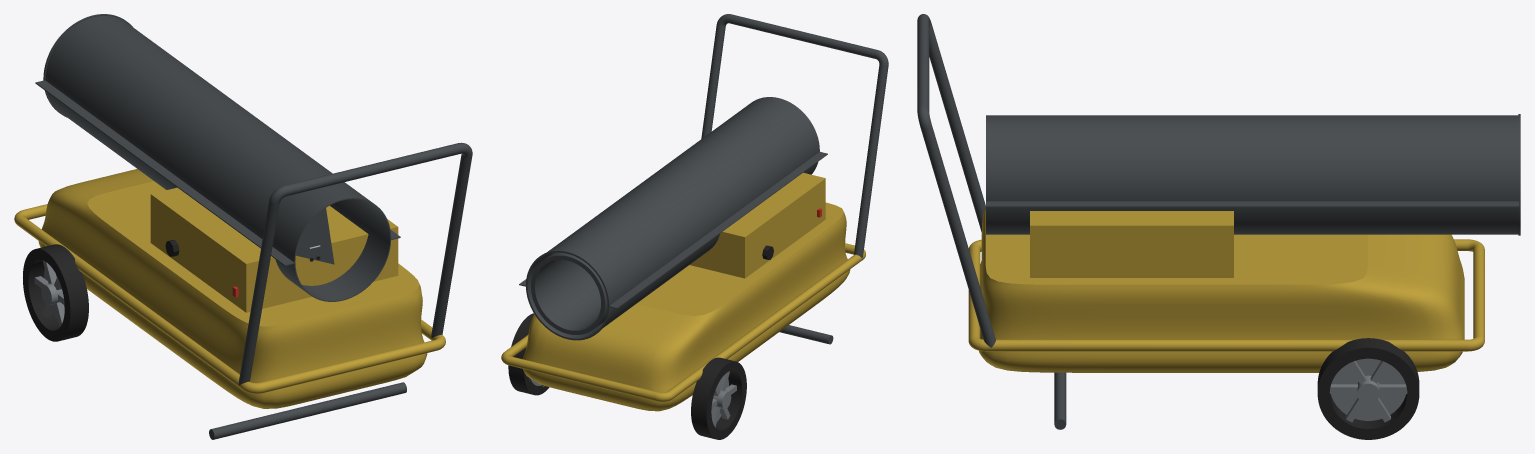
Rendered from space-heater.glb.
3 renders of one model, left to right at view 1: azimuth 30°, elevation 25°; view 2: azimuth 150°, elevation 25°; view 3: azimuth 270°, elevation 25°, orthographic. The views are drawn at different scales.
Parts seen in each view (by area): view 1: heater; view 2: heater; view 3: heater.
Boxes of the visible parts, x1,y1,x2,y2 form: heater: (14,14,472,439); heater: (501,14,888,439); heater: (917,14,1520,439).
Bounding box in the file's own units: 0.492 × 0.598 × 1.03.
